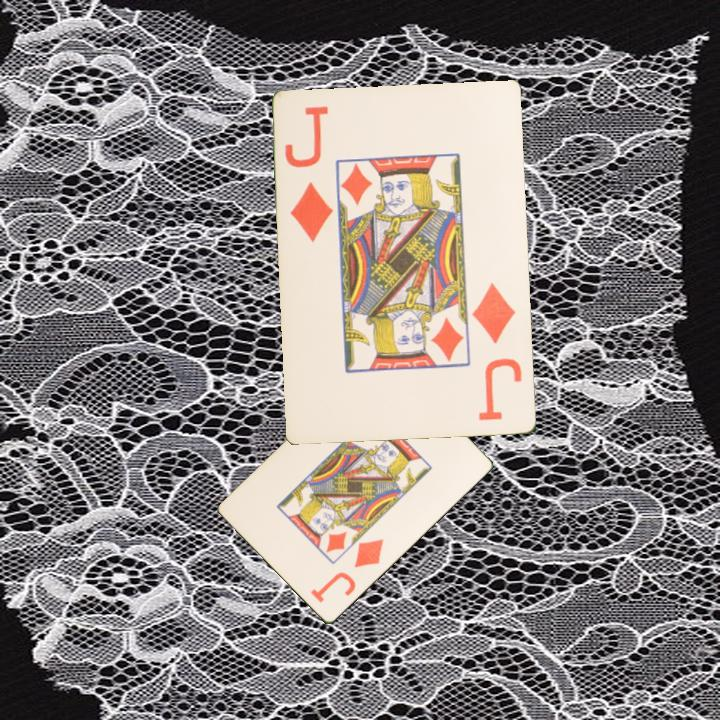Jd: (469, 280, 526, 424), (281, 103, 337, 246), (307, 535, 387, 606)
